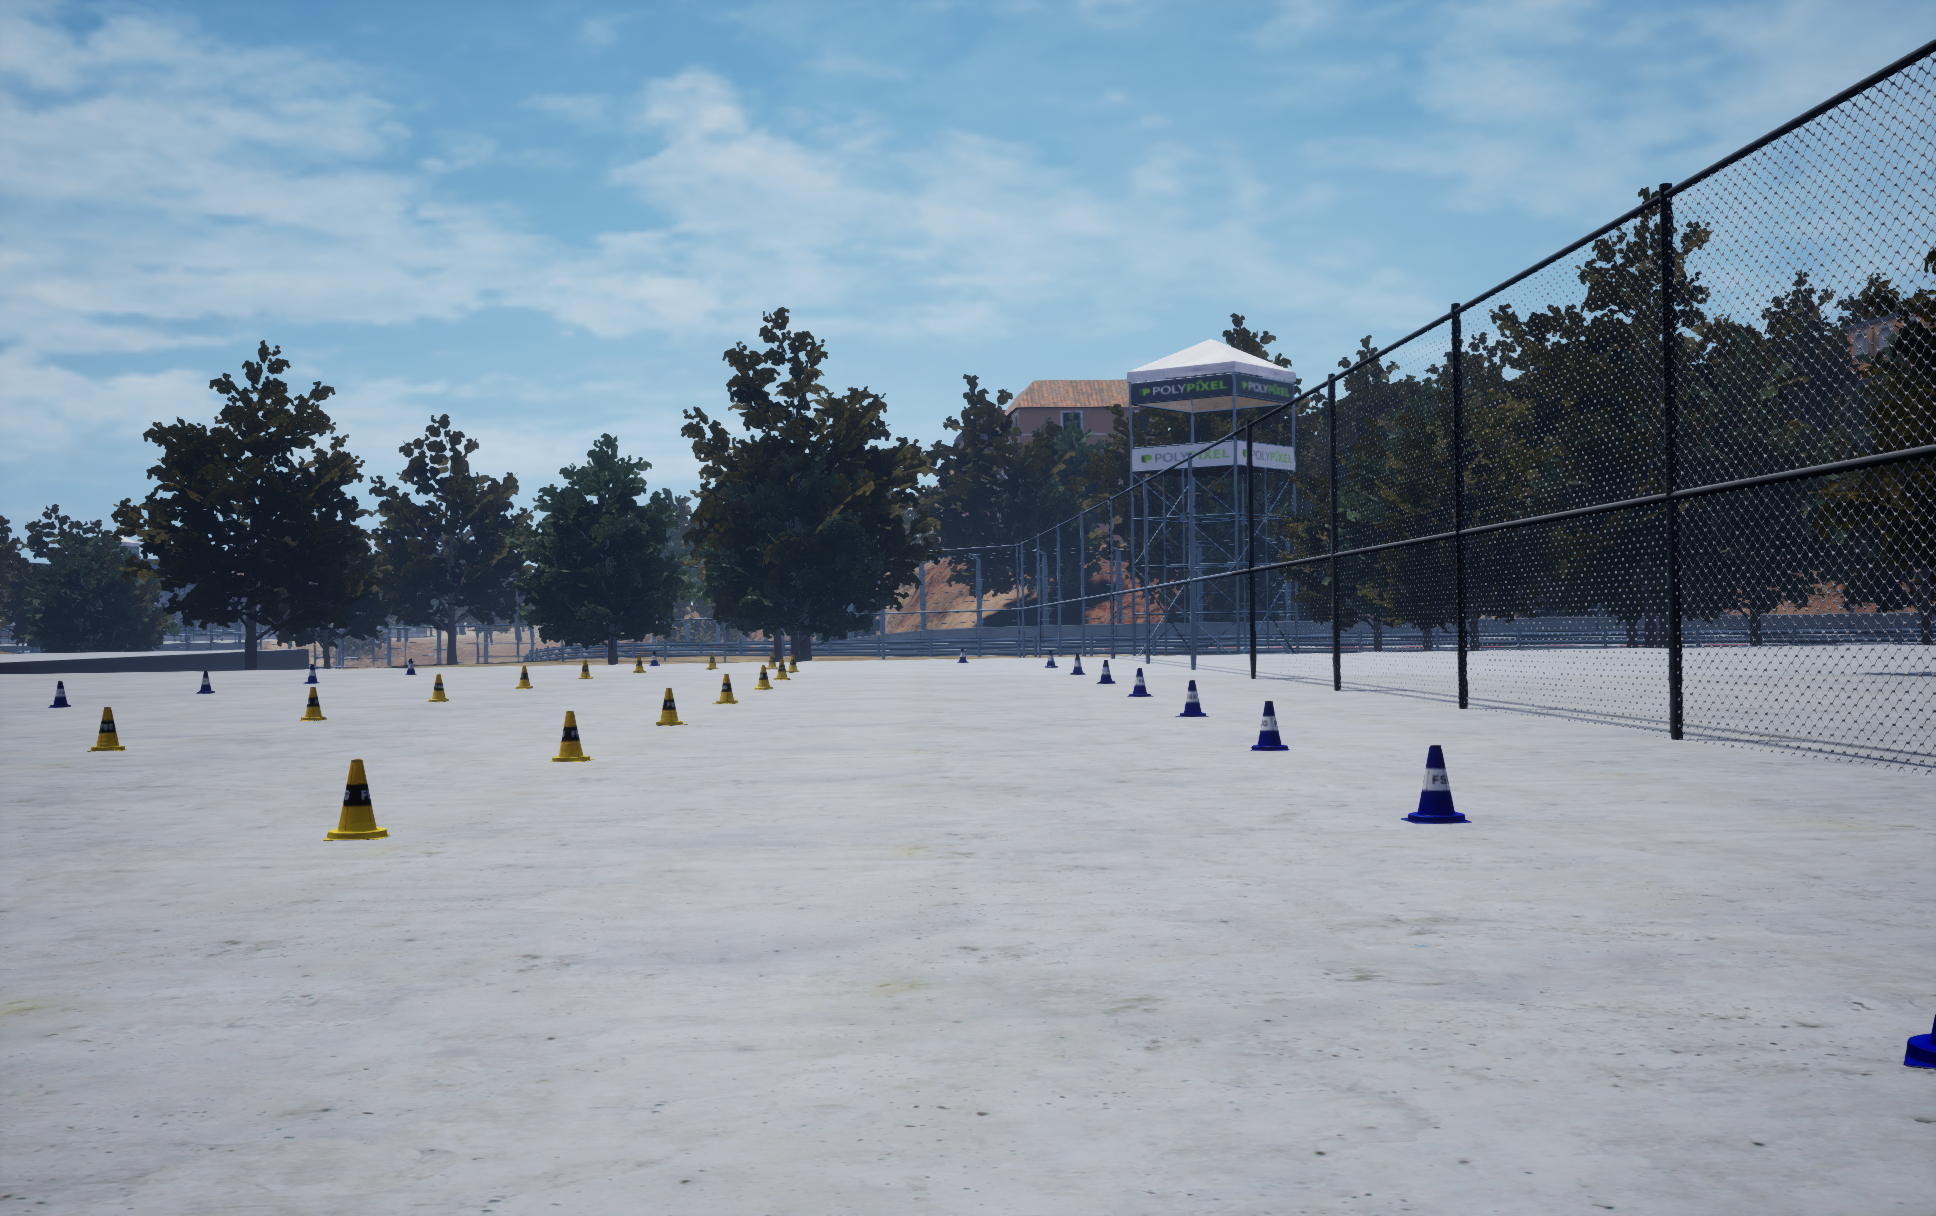blue: (324, 759, 389, 841), (551, 712, 594, 761), (87, 707, 126, 751), (656, 688, 686, 726), (300, 686, 326, 720), (712, 674, 737, 703), (427, 674, 448, 700), (754, 665, 772, 689), (516, 665, 532, 688), (773, 658, 790, 679), (579, 660, 593, 678), (786, 654, 798, 672)
yellow: (1401, 745, 1471, 822), (1250, 700, 1289, 749), (1902, 1014, 1935, 1069), (1175, 679, 1208, 716), (1128, 668, 1153, 696), (48, 681, 70, 707), (1095, 660, 1115, 684), (196, 671, 214, 693), (303, 664, 319, 684), (1070, 654, 1086, 674), (1045, 650, 1058, 667)
